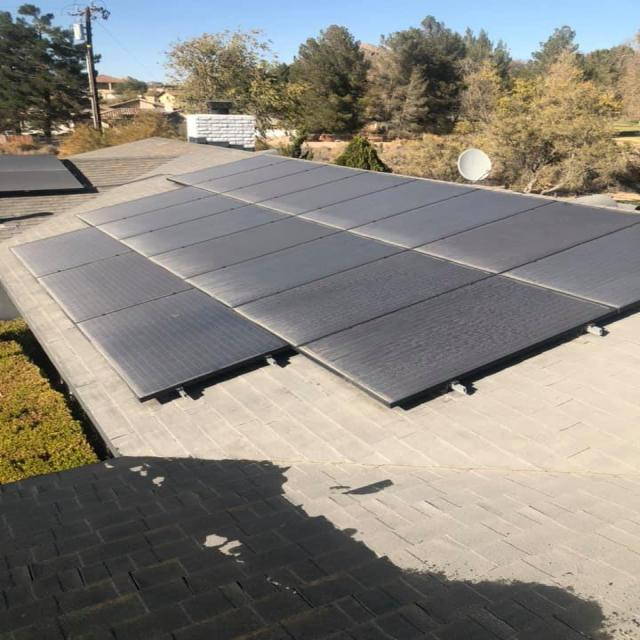dust-solar-panel: (10, 152, 640, 407)
